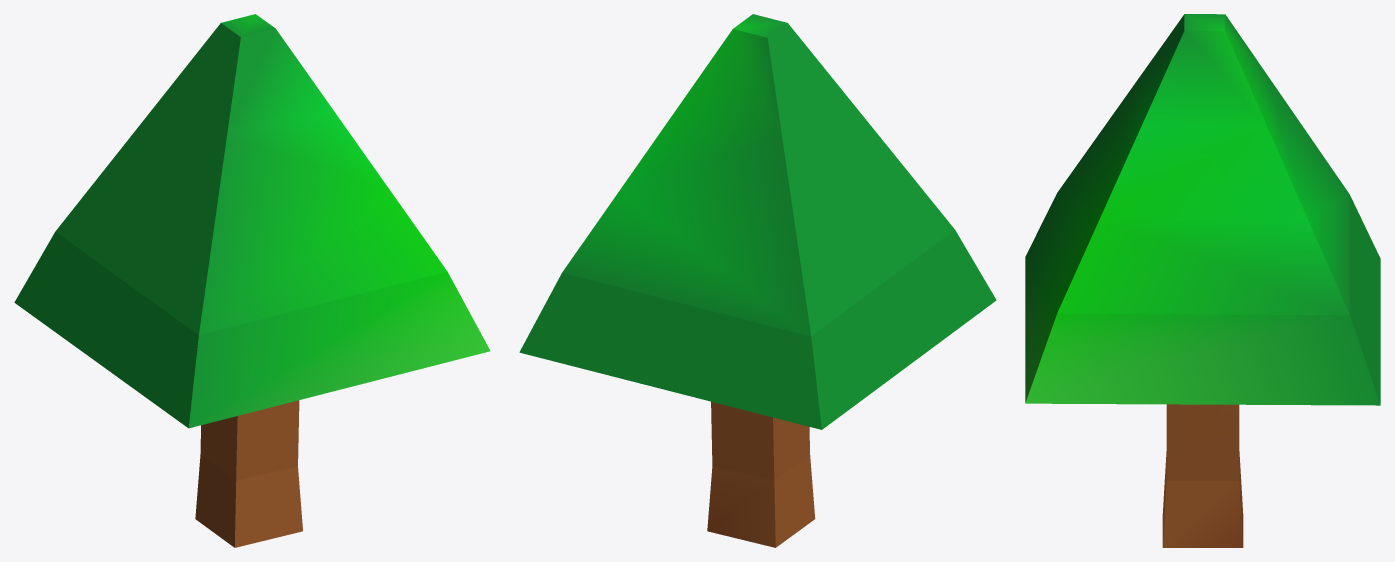
The model's file is tree1.fbx.
3 views of the same model, side by side, from view 1: azimuth 30°, elevation 25°; view 2: azimuth 150°, elevation 25°; view 3: azimuth 270°, elevation 25° (orthographic).
Parts seen in each view (by area): view 1: tree3; view 2: tree3; view 3: tree3.
Part boxes in pixels (<box>): tree3: <box>14,14,490,547</box>; tree3: <box>519,14,996,547</box>; tree3: <box>1025,14,1380,547</box>.
Size of the model in its own units: 18.58 by 29.35 by 18.58.
